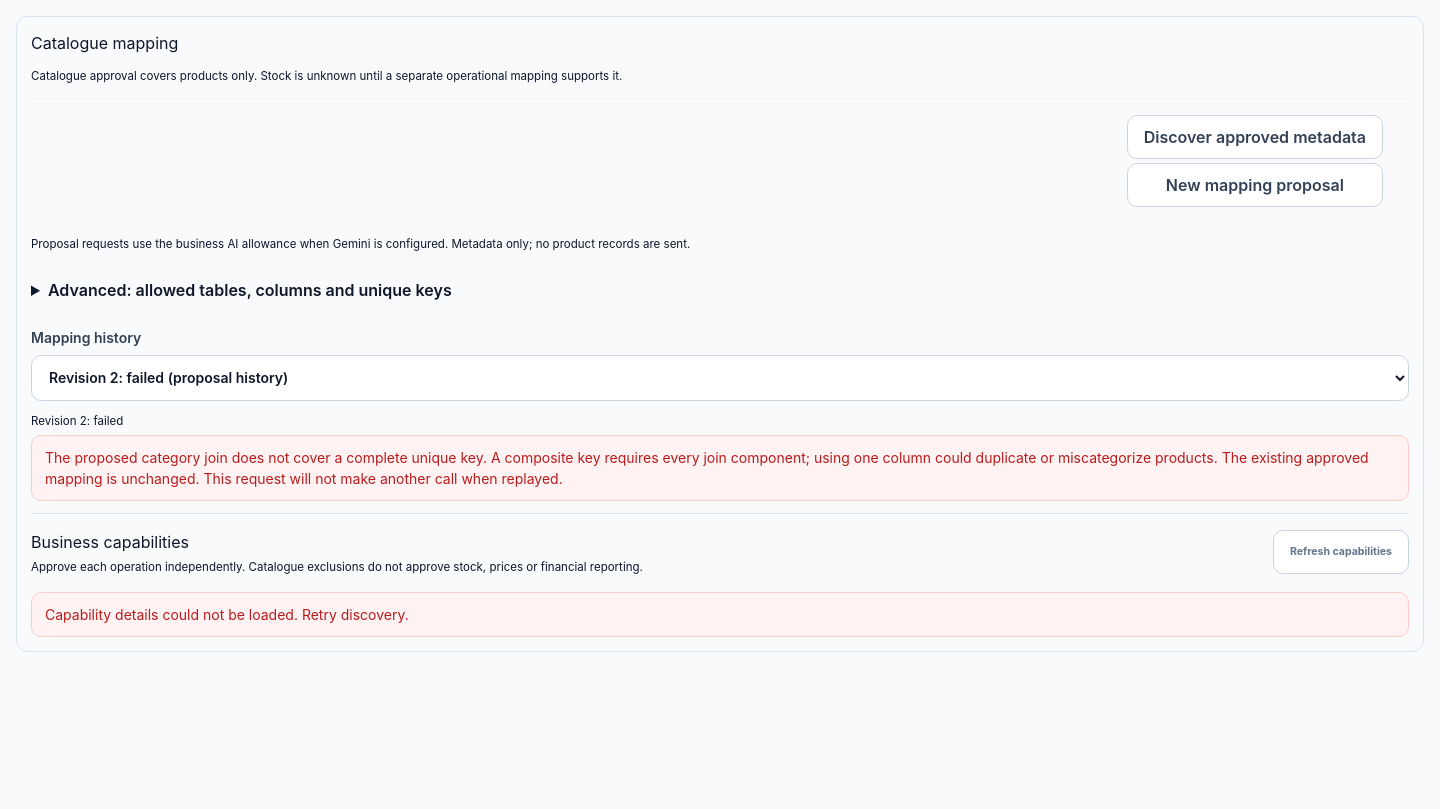
Test: explains incomplete category keys and preserves approved history for review
Expected: the text "does not cover a complete unique key" is shown, [45, 449, 1369, 487]
Step 1. Select "Revision 1: approved (historical approval)" in the dropdown labelled "Mapping history" → x=720, y=378, box [31, 354, 1409, 400]
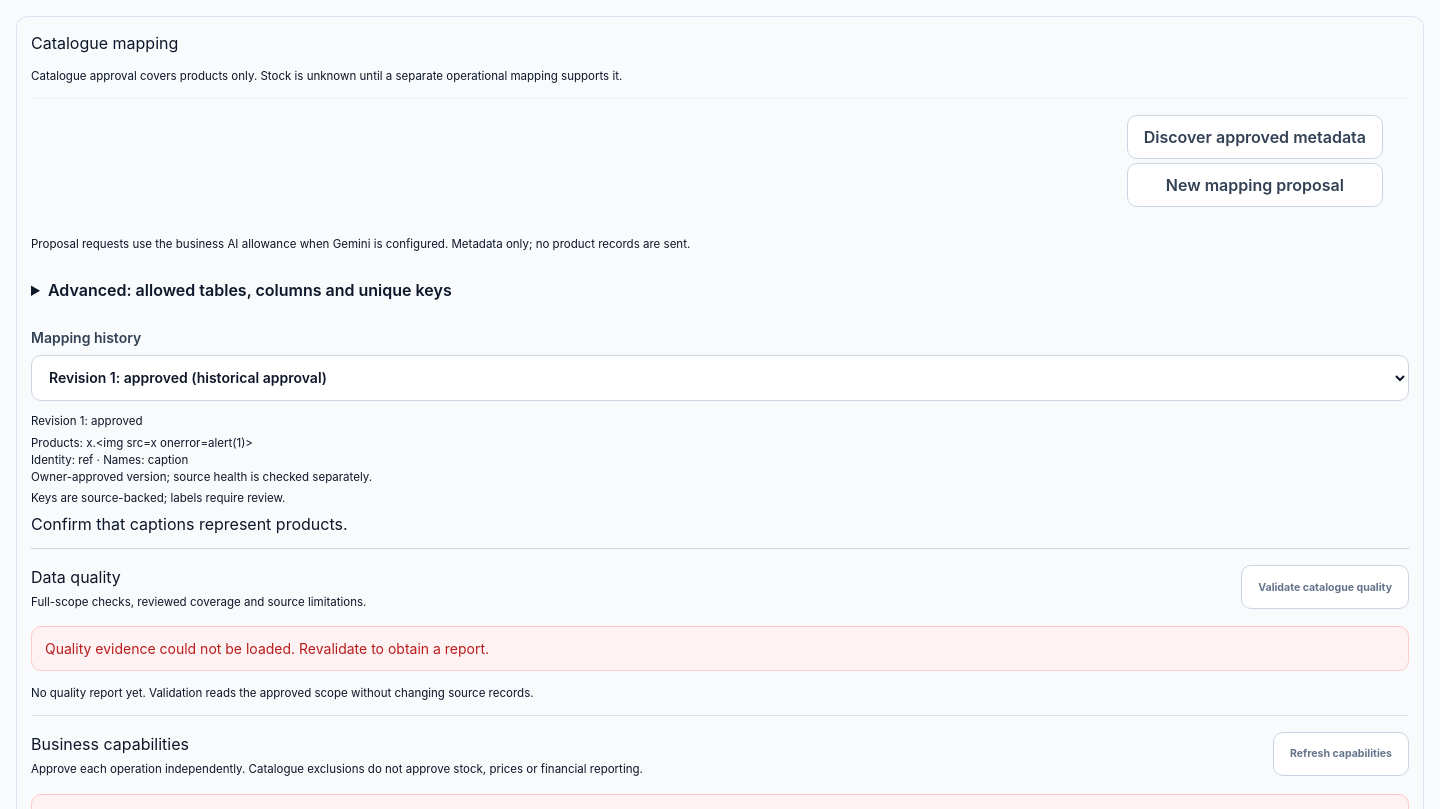
Expected: the text "Owner-approved version; source health is checked separately." is shown, [31, 470, 372, 484]
Expected: the text "Identity: ref · Names: caption" is shown, [31, 453, 188, 467]
